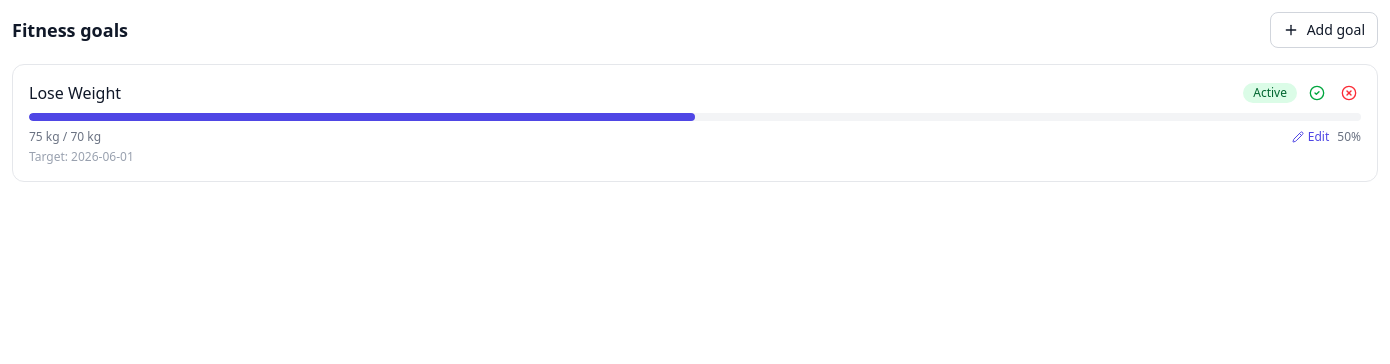
it: FitnessGoalsTab › opens inline edit form when Edit is clicked
Click the button "Edit". click: click(1311, 137)
box: [1292,129,1329,145]
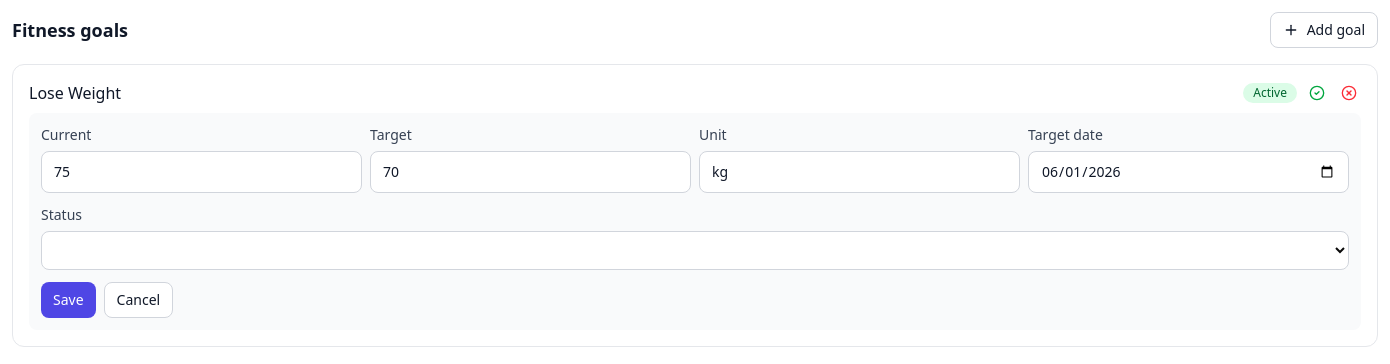
Result: the number field labelled "Current" is shown at [41,151,362,193]
Result: the button "Save" is shown at [41,282,96,318]
